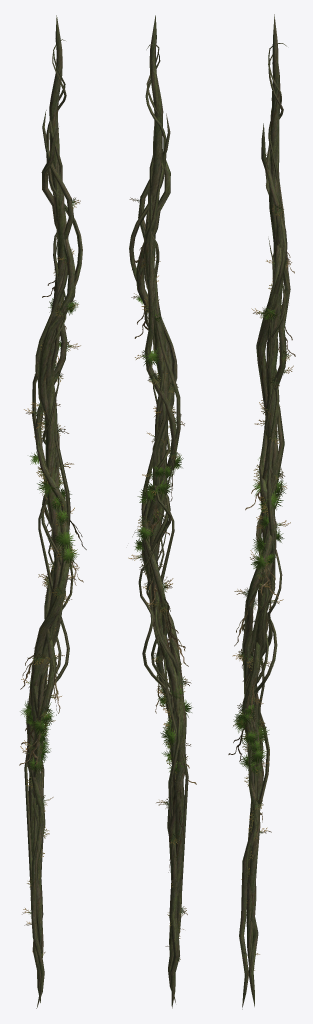
File: Plant - Alien Liana1-CW-6robK.glb
3 views of the same model, side by side, from view 1: azimuth 30°, elevation 25°; view 2: azimuth 210°, elevation 25°; view 3: azimuth 330°, elevation 25° (orthographic).
Parts seen in each view (by area): view 1: Liana1_L0(Clone); view 2: Liana1_L0(Clone); view 3: Liana1_L0(Clone).
Boxes of the visible parts, x1,y1,x2,y2 form: Liana1_L0(Clone): (19, 15, 86, 1008); Liana1_L0(Clone): (128, 15, 196, 1008); Liana1_L0(Clone): (228, 14, 295, 1009).
Bounding box in the file's own units: 0.997 × 14.33 × 0.9103.
2 materials, 2 textured.
